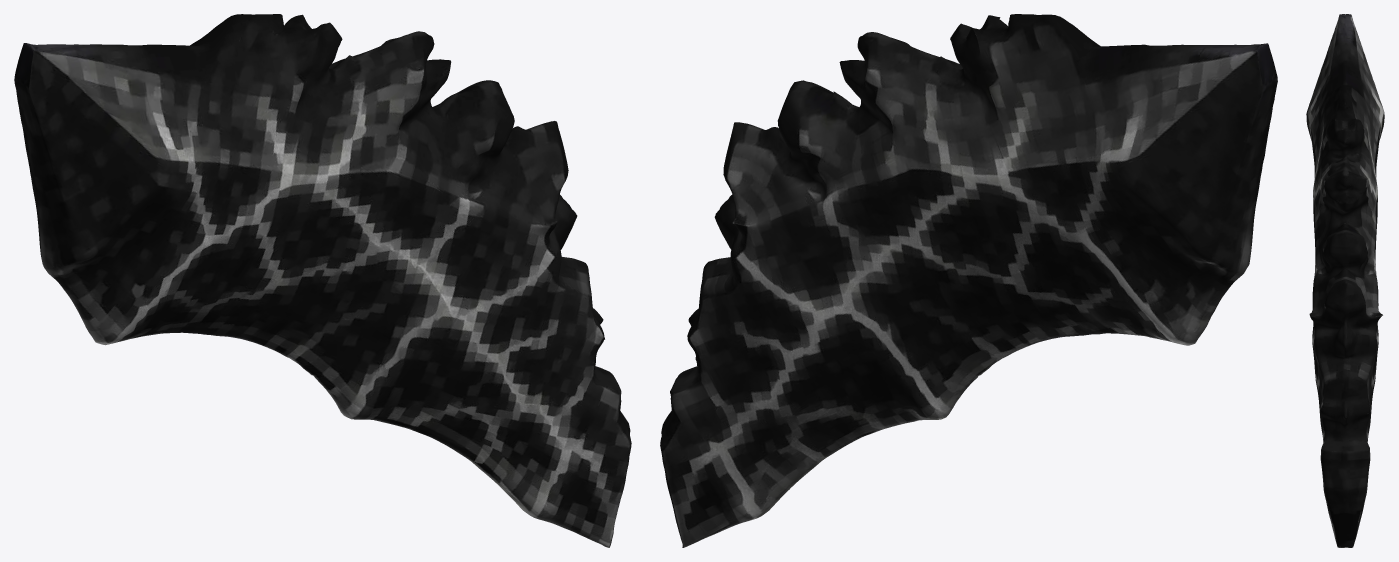
The model's file is weapon_fragment_option2.glb.
3 renders of one model, left to right at view 1: azimuth 30°, elevation 25°; view 2: azimuth 150°, elevation 25°; view 3: azimuth 270°, elevation 25°, orthographic. The views are drawn at different scales.
Visible parts, largest first — view 1: Mesh_0; view 2: Mesh_0; view 3: Mesh_0.
Part boxes in pixels (<box>): Mesh_0: <box>14,14,631,547</box>; Mesh_0: <box>660,14,1277,547</box>; Mesh_0: <box>1306,14,1384,547</box>.
Size of the model in its own units: 1.9 by 1.91 by 0.3653.
Materials: 1 (1 with a texture image).
